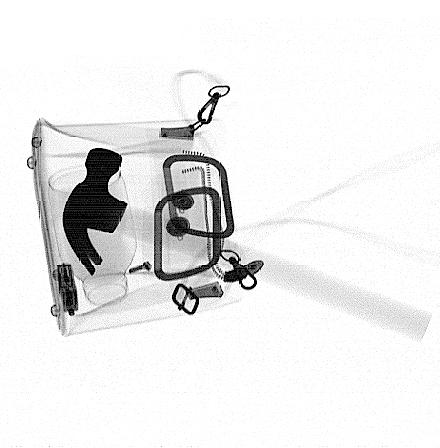Hammer: (62, 146, 433, 343)
